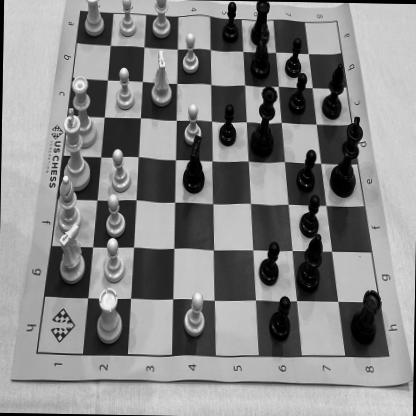bishop: (295, 234, 324, 293), (54, 173, 82, 232), (321, 60, 346, 120), (149, 0, 175, 40)
king: (330, 112, 364, 200), (58, 106, 92, 193)
knight: (54, 219, 86, 283), (181, 132, 206, 194), (248, 23, 272, 79), (149, 49, 172, 106)
pawn: (256, 239, 280, 289), (268, 294, 291, 344), (181, 290, 205, 336), (102, 236, 125, 282), (298, 194, 322, 238), (178, 30, 200, 76), (108, 148, 131, 192), (104, 194, 127, 237), (286, 72, 308, 116), (181, 102, 202, 146), (114, 65, 134, 110), (219, 0, 240, 42), (296, 148, 316, 192), (282, 35, 302, 78), (216, 104, 236, 146), (117, 0, 138, 39)
queen: (66, 74, 98, 150), (250, 85, 276, 158)
rook: (348, 284, 382, 348), (94, 285, 124, 347), (81, 0, 108, 39), (248, 1, 271, 46)
